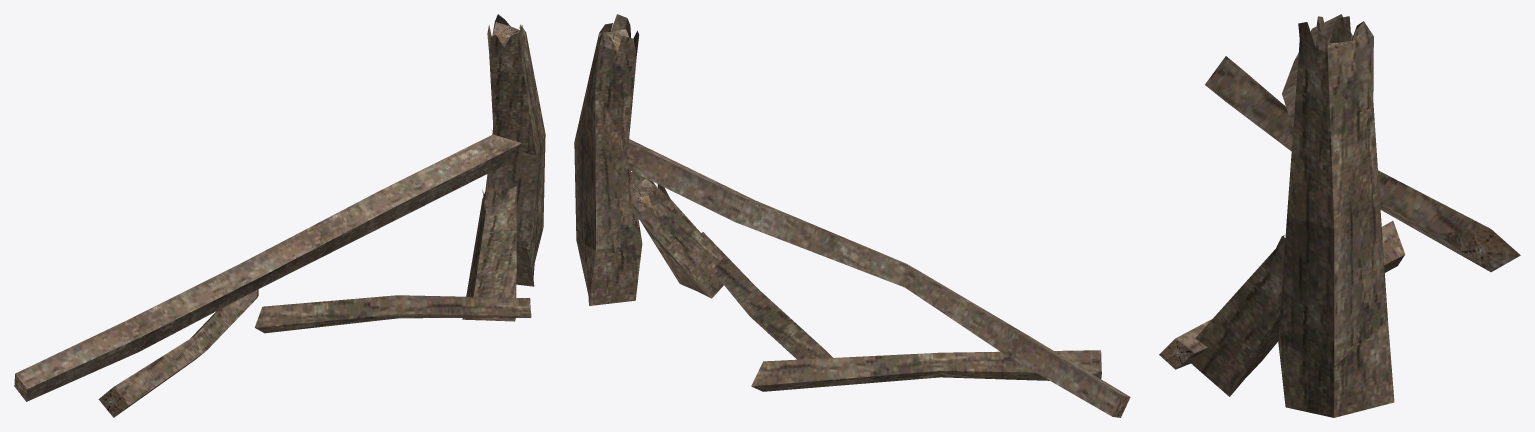
Rendered from lf_wooden_fence_broken_c.glb.
The picture shows the model from 3 angles, left to right: view 1: azimuth 30°, elevation 25°; view 2: azimuth 150°, elevation 25°; view 3: azimuth 270°, elevation 25°; orthographic projection. The views are drawn at different scales.
Parts seen in each view (by area): view 1: wooden_fence_broken_alt2; view 2: wooden_fence_broken_alt2; view 3: wooden_fence_broken_alt2.
Boxes of the visible parts, bbox=[...] form: wooden_fence_broken_alt2: bbox=[14, 14, 545, 417]; wooden_fence_broken_alt2: bbox=[574, 14, 1130, 417]; wooden_fence_broken_alt2: bbox=[1159, 14, 1520, 417].
Size of the model in its own units: 2.07 by 1.03 by 0.8299.
Materials: 1 (1 with a texture image).
